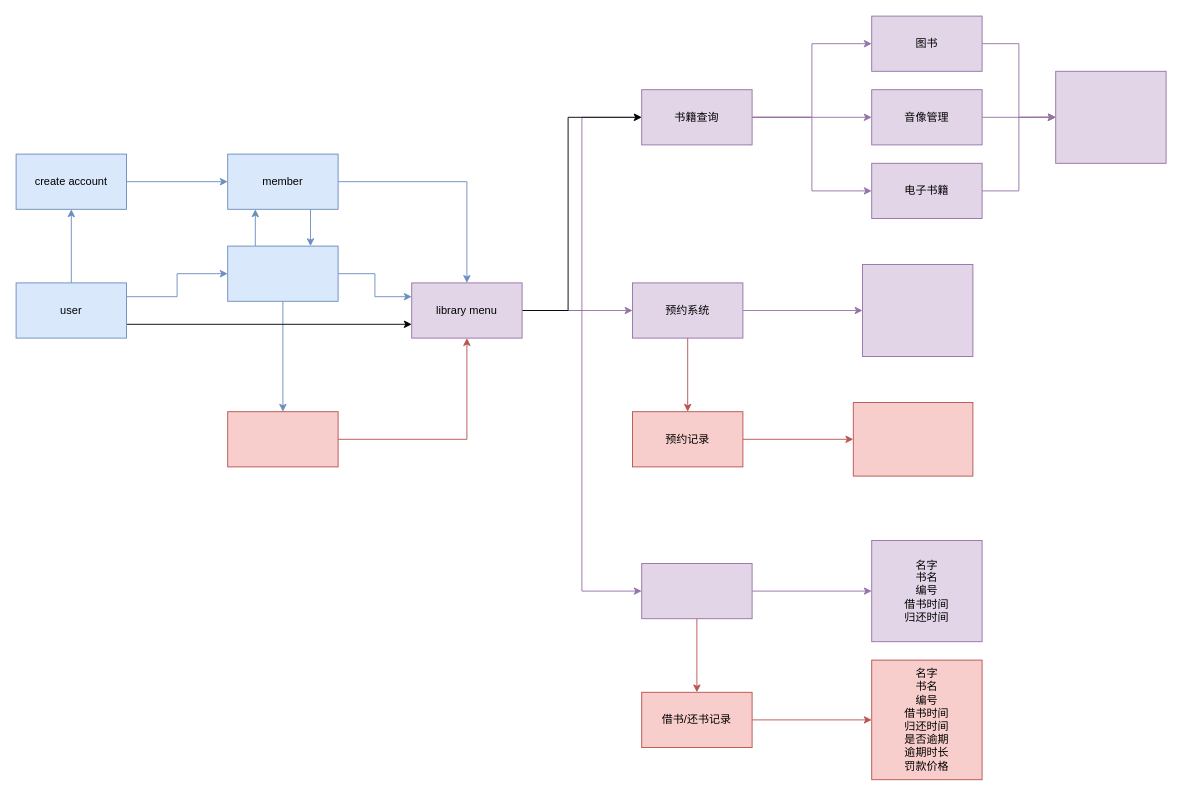
Image size: 1182x796. Some labels were removed from this diagram. Here are the shapes that lost their labels. From the top down, the box of each, then its label:
(1055, 70, 1166, 163): 位置 编号 名字 作者 类型
(227, 245, 338, 301): login system
(862, 264, 973, 356): 书名 编号 书本状态（有/无） 预约时间
(227, 411, 338, 467): library worker
(852, 402, 973, 476): 预约名字 预约书名 预约时间 预约状态（成功/失败）
(641, 563, 752, 619): 借书/还书
